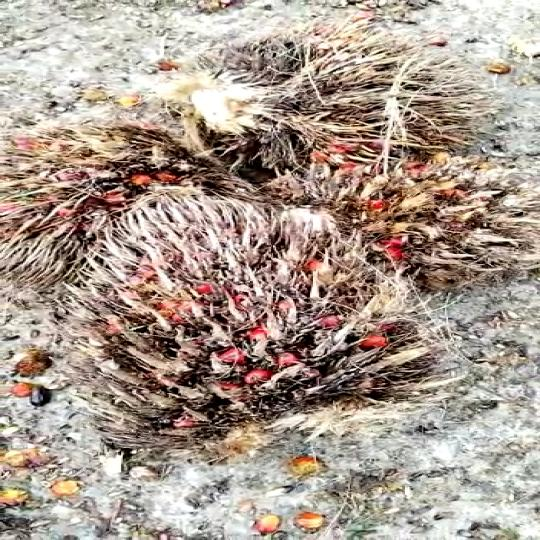terlalu masak: (65, 176, 443, 458), (0, 112, 274, 287), (161, 32, 455, 177), (270, 152, 540, 293)
